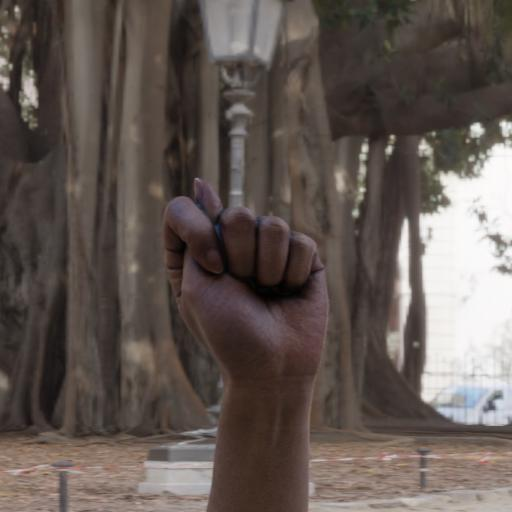T: (139, 155, 363, 440)
